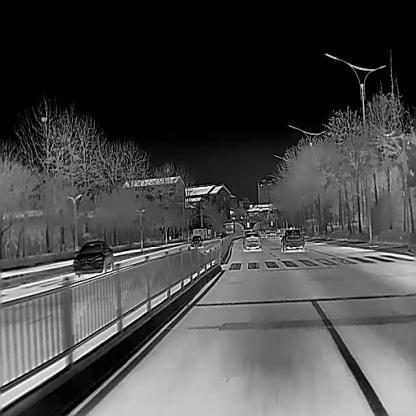car: (72, 239, 114, 276), (280, 228, 304, 251), (242, 231, 261, 251), (190, 234, 203, 249)
crosswalk: (229, 250, 416, 270)
